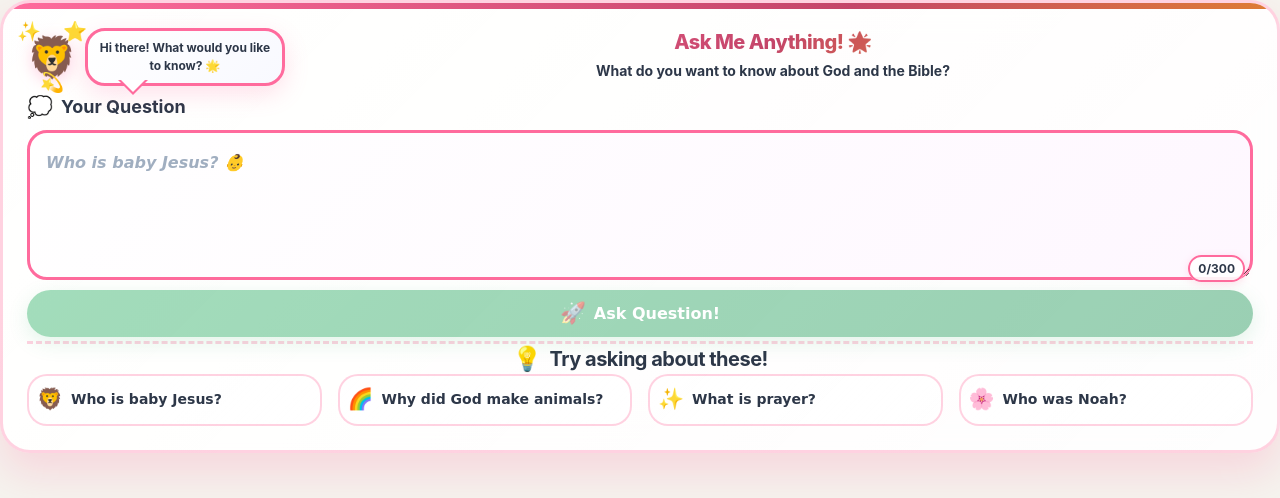
KidsQuestionForm › enables submit button when question has content
Type "Who is baby Jesus?" into the text box with class "kids-textarea" at {"x": 640, "y": 205}, box [27, 130, 1253, 280]
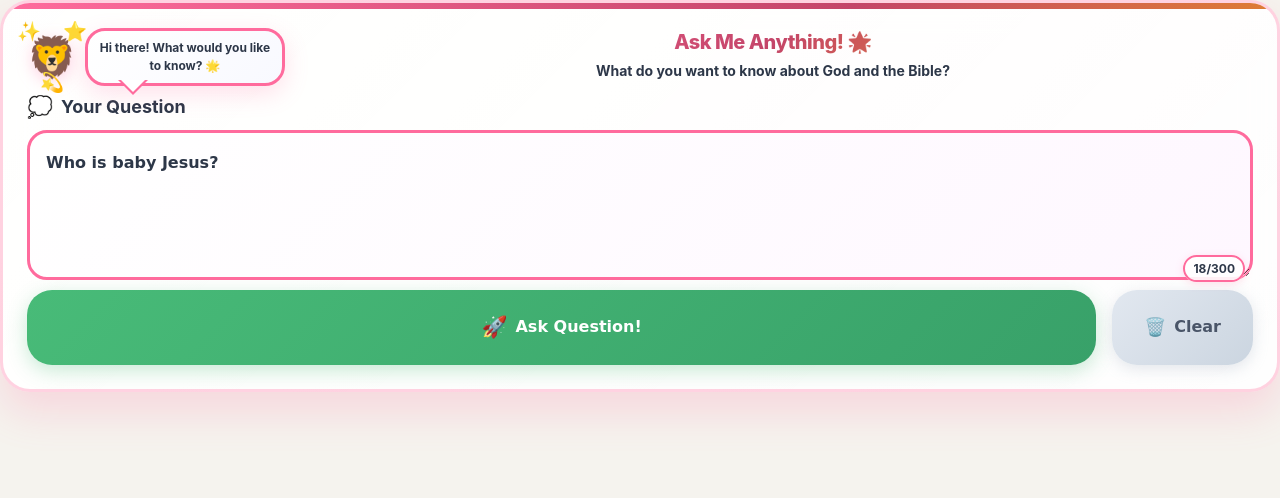
Expected: the button with class "kids-submit-button" is enabled, [27, 290, 1096, 365]
